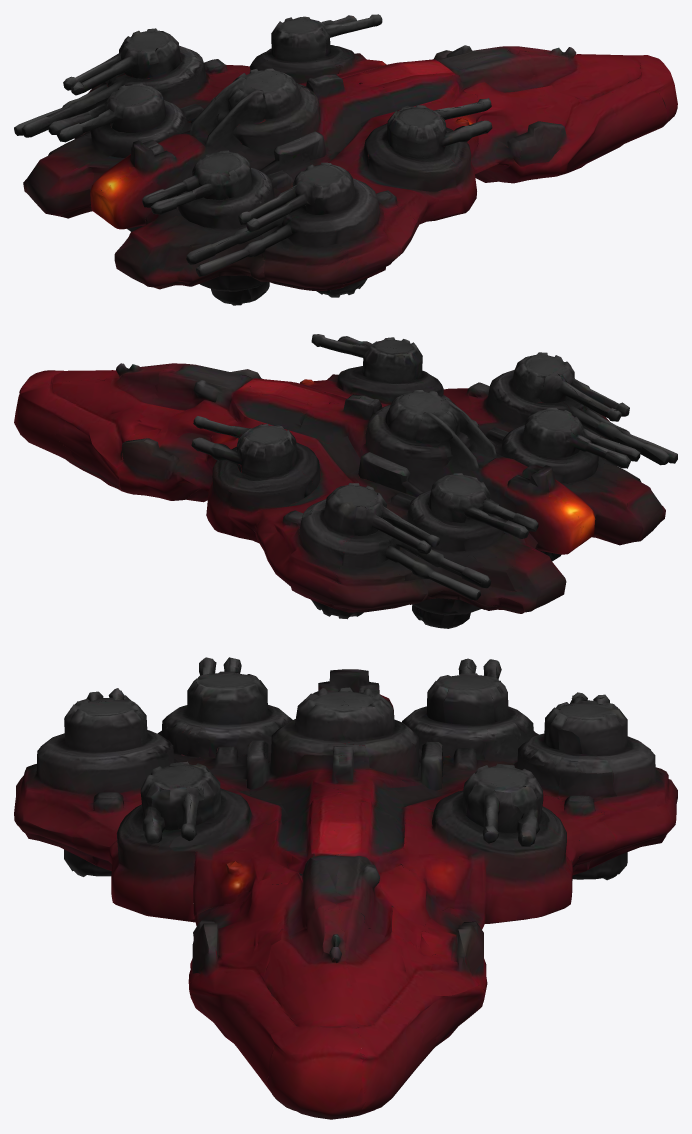
The model's file is centurion_p.glb.
3 views of the same model, one above another, from view 1: azimuth 30°, elevation 25°; view 2: azimuth 150°, elevation 25°; view 3: azimuth 270°, elevation 25° (orthographic). The views are drawn at different scales.
Parts seen in each view (by area): view 1: tripo_node_ec86d149-2407-4eaf-b980-814cb24c063c; view 2: tripo_node_ec86d149-2407-4eaf-b980-814cb24c063c; view 3: tripo_node_ec86d149-2407-4eaf-b980-814cb24c063c.
Boxes of the visible parts, x1=… form: tripo_node_ec86d149-2407-4eaf-b980-814cb24c063c: x1=14, y1=14, x2=677, y2=305; tripo_node_ec86d149-2407-4eaf-b980-814cb24c063c: x1=14, y1=334, x2=677, y2=628; tripo_node_ec86d149-2407-4eaf-b980-814cb24c063c: x1=14, y1=657, x2=677, y2=1119.
Bounding box in the file's own units: 2 × 0.6171 × 1.48.
Materials: 1 (1 with a texture image).
